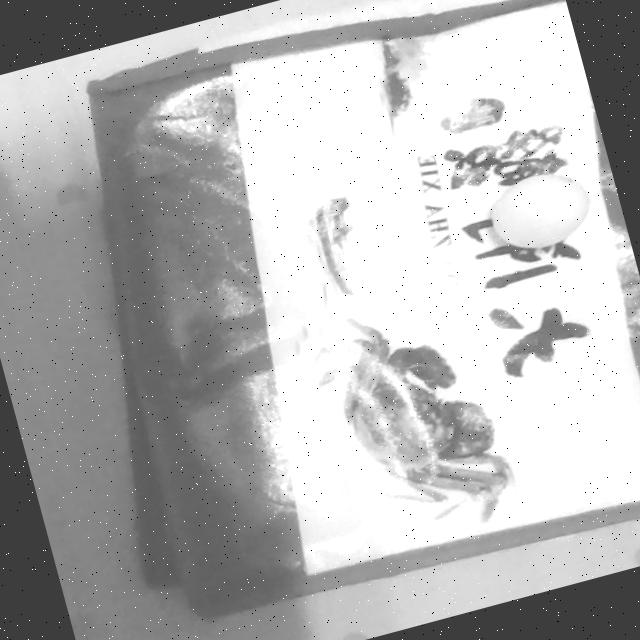ping-pong-ball: (486, 167, 588, 256)
